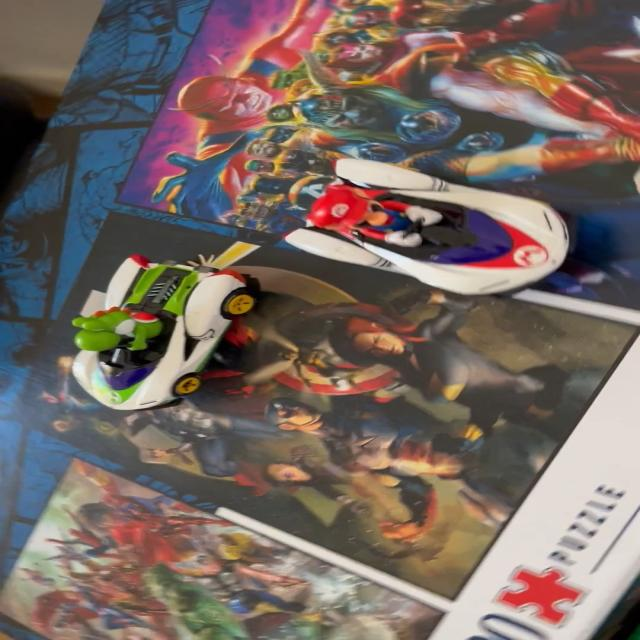mario: (274, 154, 602, 307)
yoshi: (44, 234, 269, 422)
